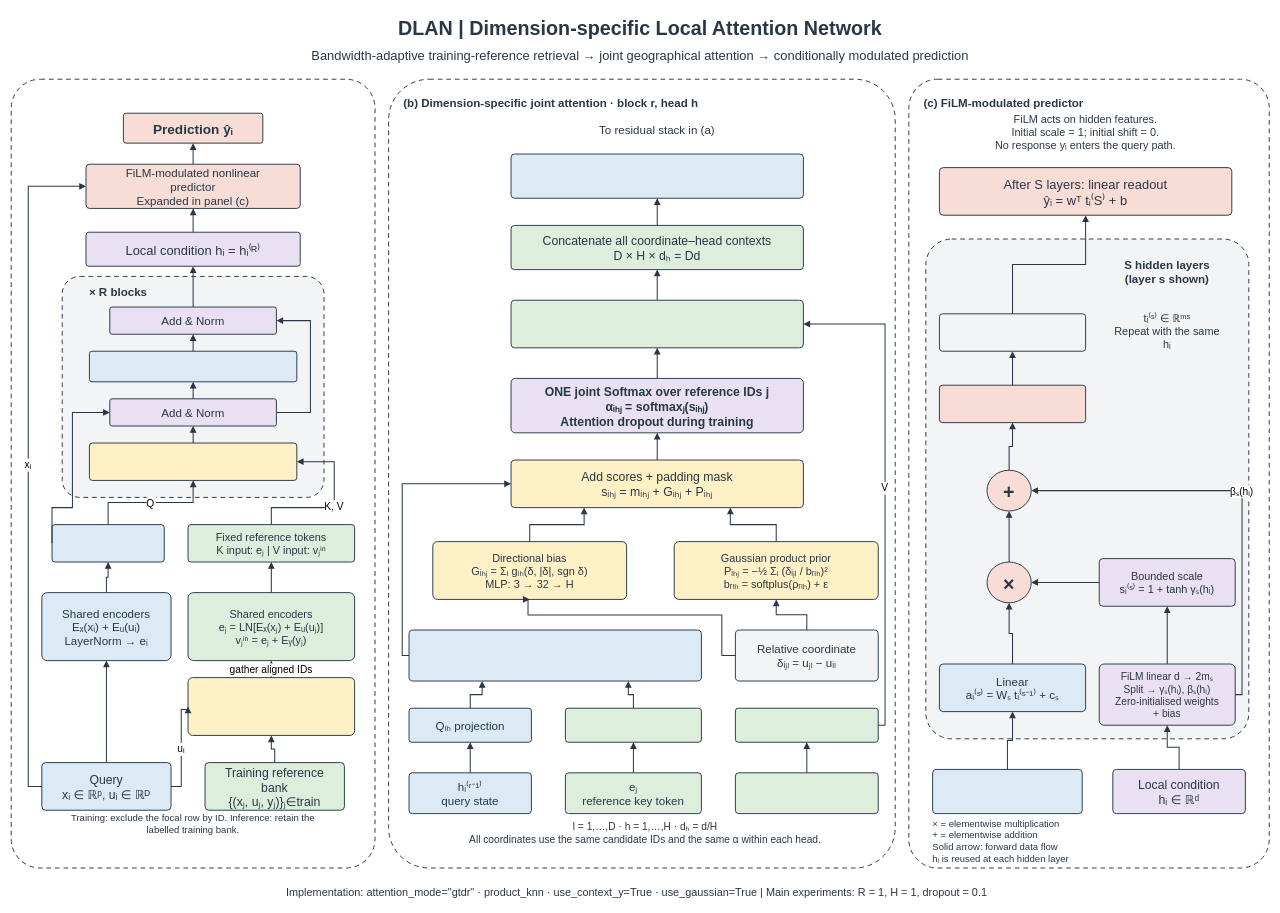
The diagram is 1280 pixels wide and 913 high, and some of its shapes have lost their labels. The shapes that lost their labels are listed below. From the top down, each one's box as (x1, y1, x2, y2) in pixels, then its label:
(510, 153, 804, 198): Output projection Wₒ : Dd → d Geographical context cᵢ
(510, 299, 804, 348): Weighted sum for each coordinate l cᵢₗₕ = Σⱼ Dropout(αᵢₕⱼ) vⱼₗₕ
(939, 313, 1086, 351): Dropout
(89, 350, 297, 382): Feed-forward · d → 4d → d
(939, 384, 1086, 423): GELU
(10, 78, 375, 868): (a) Overall architecture
(89, 442, 297, 481): Joint geographical cross-attention Expanded in panel (b)
(51, 524, 164, 562): Query state hᵢ⁽⁰⁾ = eᵢ
(408, 629, 702, 681): Content match · average over D coordinates mᵢₕⱼ = (1/D) Σₗ (qᵢₗₕᵀ kⱼₗₕ)/√dₕ
(187, 677, 355, 736): Bandwidth-adaptive retrieval d² = Σₗ (δₗ / bᵣₗₕ)² Top-K per (r,h) → ID union
(565, 707, 702, 742): Kₗₕ projection
(735, 707, 878, 742): Vₗₕ projection
(735, 772, 878, 814): vⱼⁱⁿ = eⱼ + Eᵧ(yⱼ) reference value token
(932, 769, 1082, 814): Query covariates tᵢ⁽⁰⁾ = xᵢ
